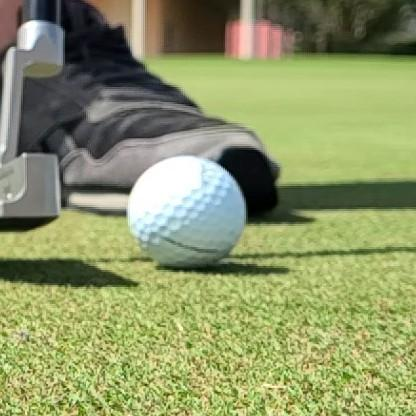golfball: (128, 156, 245, 268)
